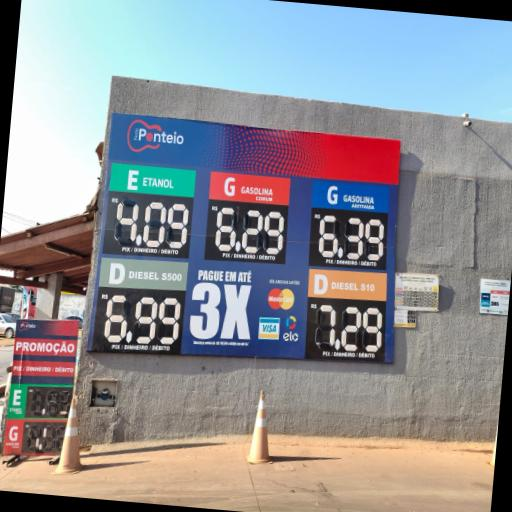ETANOL: (124, 164, 178, 195)
GASOLINA AD: (321, 184, 380, 213)
GASOLINA C: (220, 174, 284, 206)
S10: (306, 271, 382, 304)
S500: (100, 258, 186, 294)
placa: (90, 112, 411, 378)
preco: (106, 194, 192, 256), (208, 206, 286, 262), (102, 294, 182, 348), (312, 212, 389, 266), (312, 302, 386, 355)
